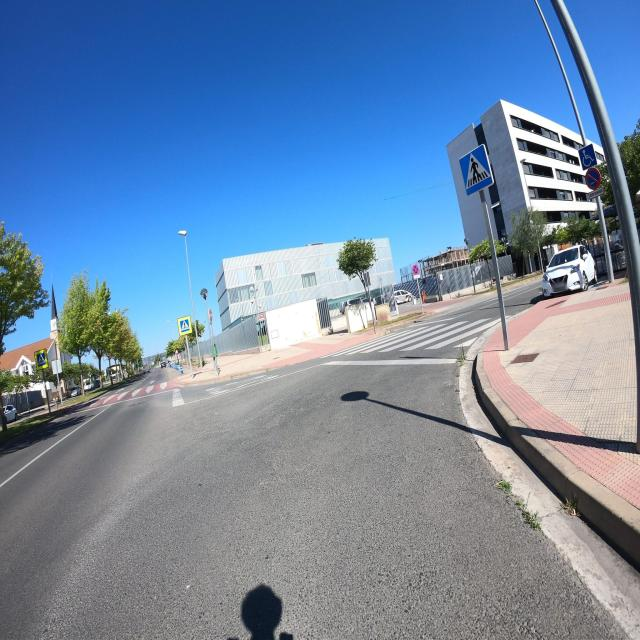forb_stopping: (585, 167, 603, 191)
forb_waiting: (412, 265, 419, 275)
